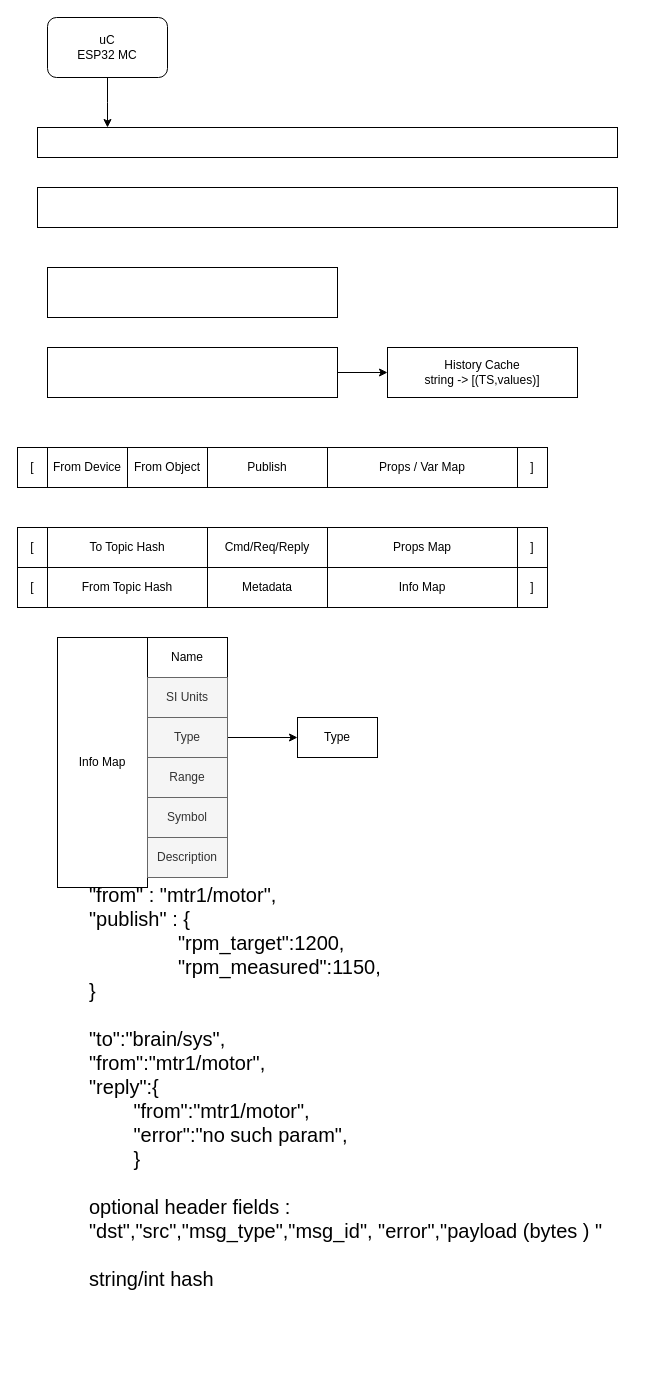
This 655x1380 diagram has some shape labels left out. The centre of each missing label's shape, as x and y in pixels:
API : Recv from/ Send to Endpoints ( wild cards ): the point at 327,207
Translator cache: the point at 192,292
UDP Multicast: the point at 327,142
Value Cache string -> value + TS: the point at 192,372
